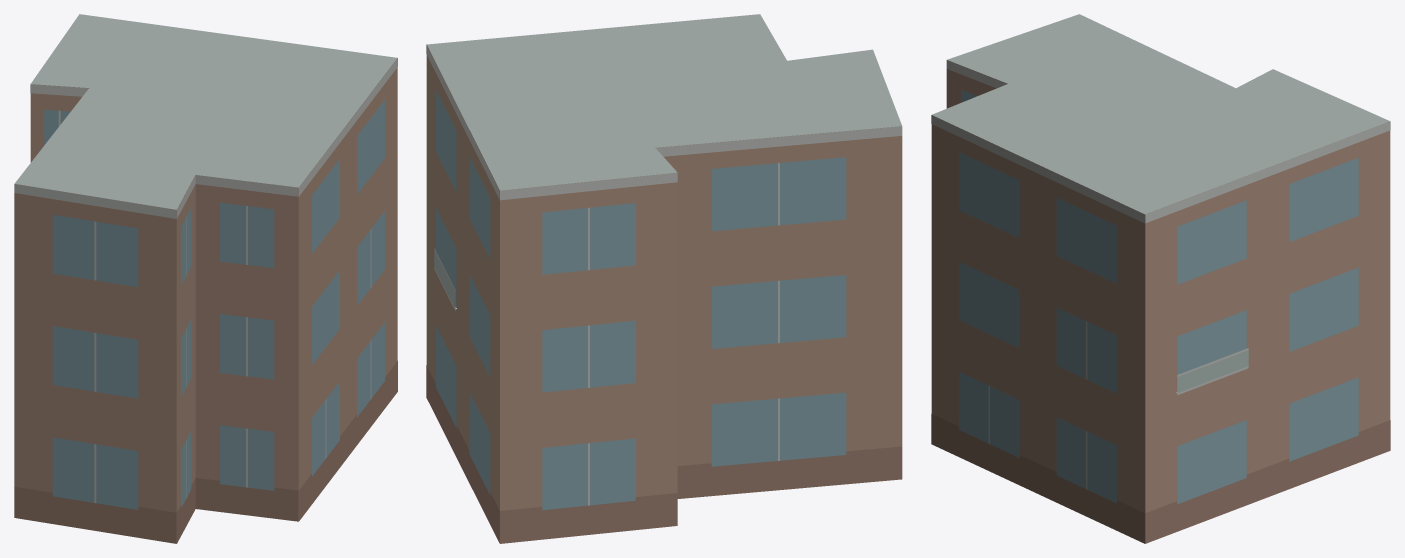
The model's file is survey-upis-32644645.glb.
3 views of the same model, side by side, from view 1: azimuth 30°, elevation 25°; view 2: azimuth 150°, elevation 25°; view 3: azimuth 270°, elevation 25° (orthographic). The views are drawn at different scales.
Parts seen in each view (by area): view 1: survey-upis-32644645.tmp; view 2: survey-upis-32644645.tmp; view 3: survey-upis-32644645.tmp.
Boxes of the visible parts, x1=… form: survey-upis-32644645.tmp: x1=14, y1=14, x2=397, y2=543; survey-upis-32644645.tmp: x1=426, y1=14, x2=902, y2=543; survey-upis-32644645.tmp: x1=931, y1=14, x2=1390, y2=543.
Bounding box in the file's own units: 11.63 × 8.9 × 11.25.
